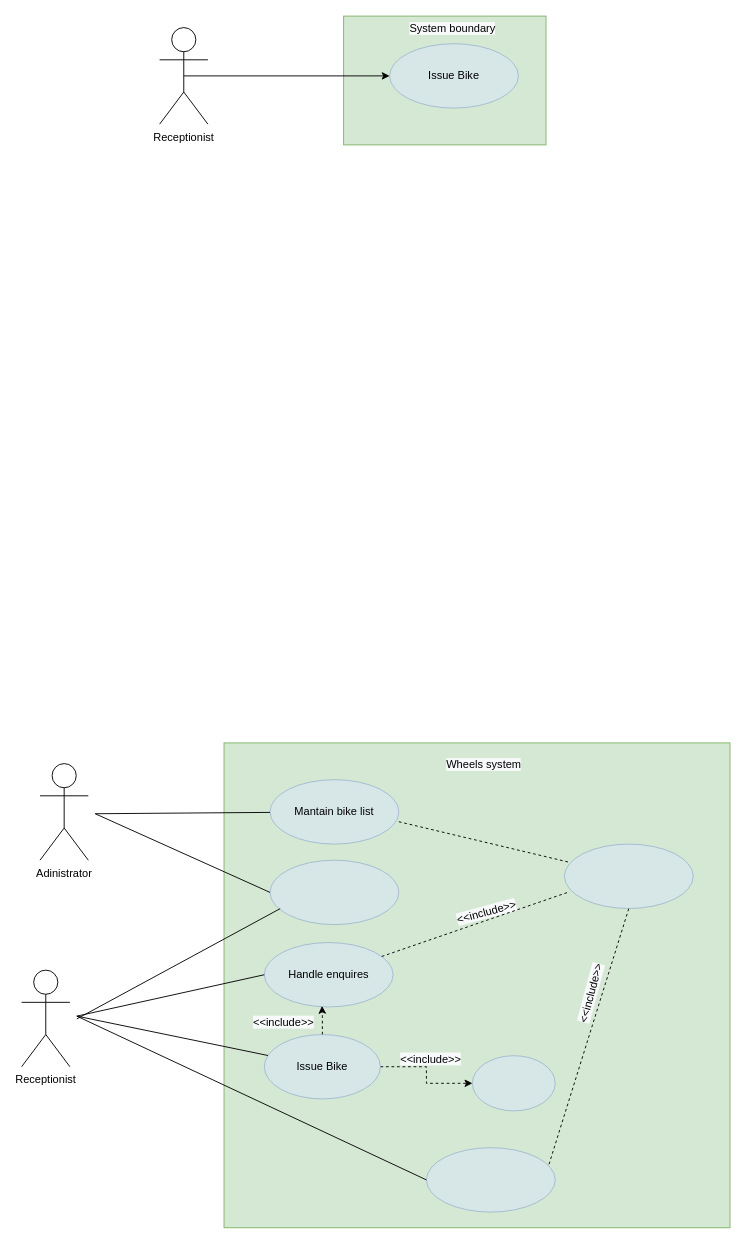
The diagram is 747 pixels wide and 1244 high, and some of its shapes have lost their labels. The shapes that lost their labels are listed below. From the top down, each one's box as (x1, y1, x2, y2) in pixels, then its label:
(269, 859, 399, 925): Maintain customer list
(564, 843, 693, 908): Find Bike
(472, 1055, 555, 1111): Print rceipt
(426, 1147, 555, 1212): Handle bike return
